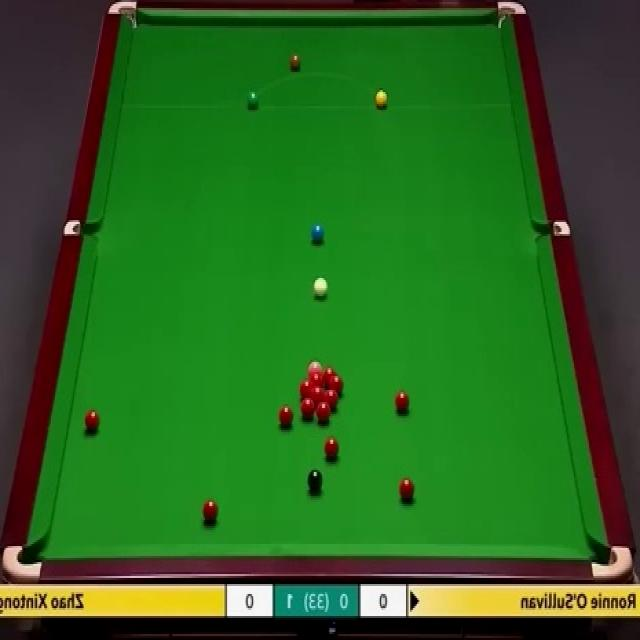pocket: (590, 543, 633, 582), (3, 542, 43, 583), (495, 0, 529, 34), (109, 0, 139, 29), (64, 220, 100, 237), (536, 222, 572, 236)
